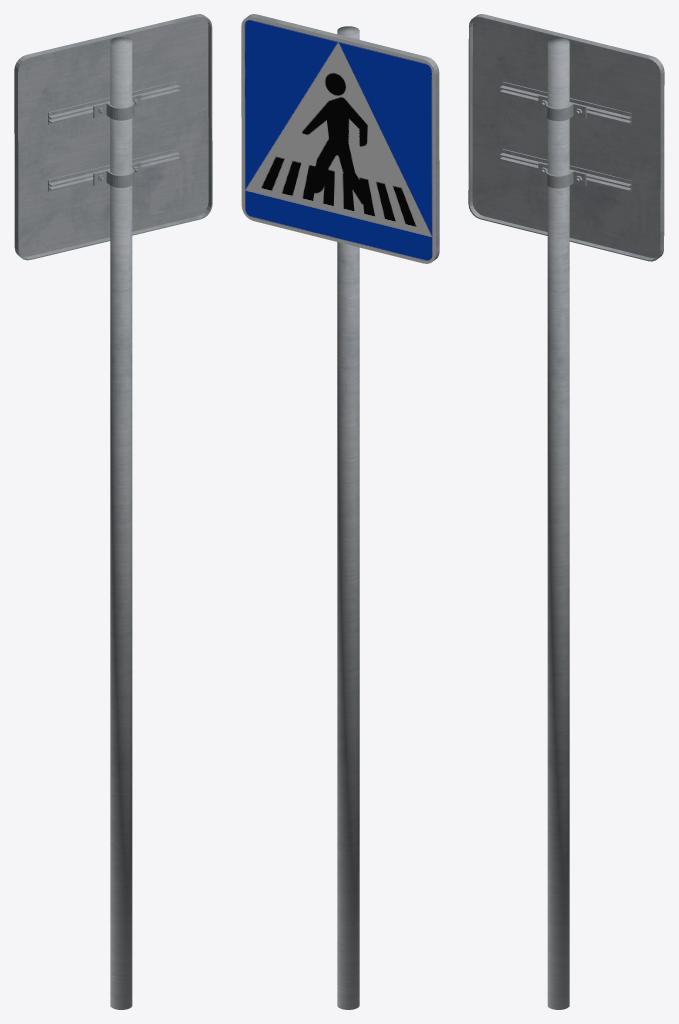
Rendered from Crosswalk.fbx.
3 renders of one model, left to right at view 1: azimuth 30°, elevation 25°; view 2: azimuth 150°, elevation 25°; view 3: azimuth 330°, elevation 25°, orthographic.
Visible parts, largest first — view 1: Crosswalk; view 2: Crosswalk; view 3: Crosswalk.
Part boxes in pixels (x1,y1,x2,y2): Crosswalk: [14, 14, 212, 1009]; Crosswalk: [241, 14, 439, 1009]; Crosswalk: [468, 14, 664, 1009].
Size of the model in its own units: 0.091 by 0.6002 by 2.86.
